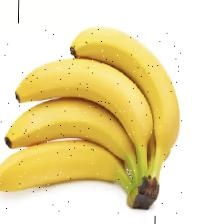banana: (16, 44, 206, 193)
